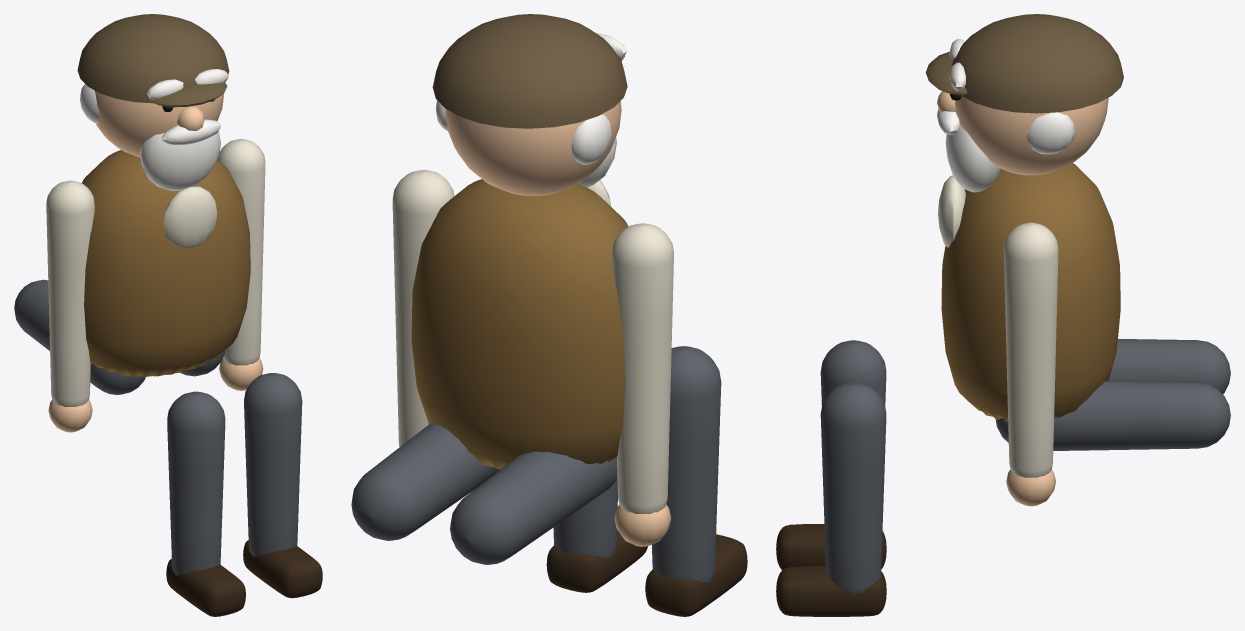
The model's file is jii.glb.
3 views of the same model, side by side, from view 1: azimuth 30°, elevation 25°; view 2: azimuth 150°, elevation 25°; view 3: azimuth 270°, elevation 25° (orthographic). The views are drawn at different scales.
Parts seen in each view (by area): view 1: jii_torso, jii_face, jii_arm_mesh_r, jii_arm_mesh_l; view 2: jii_torso, jii_face, jii_arm_mesh_r, jii_arm_mesh_l; view 3: jii_torso, jii_face, jii_arm_mesh_l.
Boxes of the visible parts, x1,y1,x2,y2 form: jii_torso: (14, 150, 322, 616); jii_face: (77, 14, 229, 190); jii_arm_mesh_r: (46, 180, 94, 432); jii_arm_mesh_l: (217, 139, 265, 390); jii_torso: (351, 179, 747, 616); jii_face: (432, 14, 627, 195); jii_arm_mesh_r: (611, 223, 673, 546); jii_arm_mesh_l: (392, 170, 454, 447); jii_torso: (776, 163, 1230, 616); jii_face: (925, 14, 1123, 192); jii_arm_mesh_l: (1003, 222, 1058, 506).
Bounding box in the file's own units: 0.5 × 1.12 × 0.8197.
